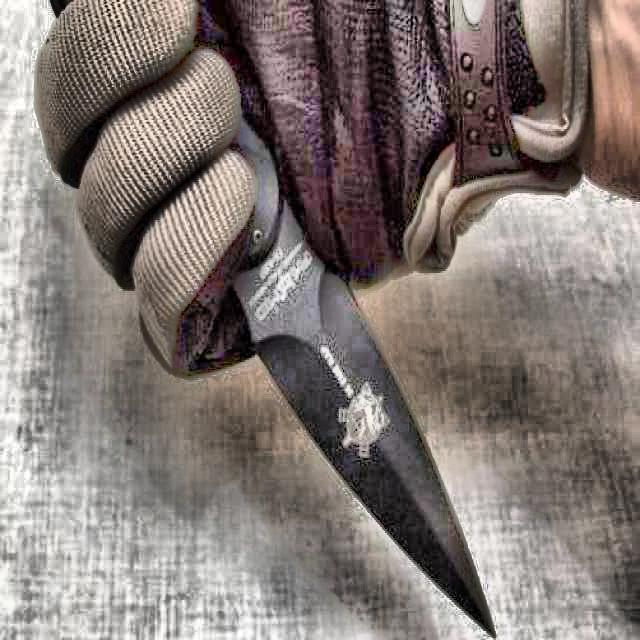knife: (224, 146, 498, 639)
